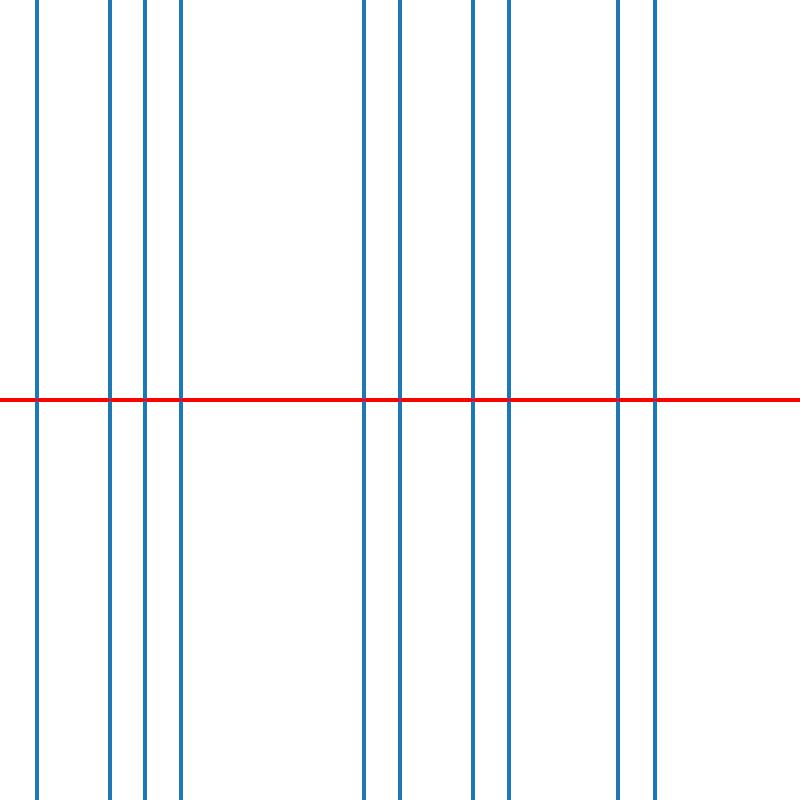root: (650, 396, 658, 404), (32, 396, 40, 404), (141, 396, 149, 404), (469, 396, 476, 404), (396, 396, 403, 404), (178, 396, 185, 404), (105, 396, 112, 404), (614, 396, 621, 404), (505, 396, 512, 404), (360, 396, 367, 404)
